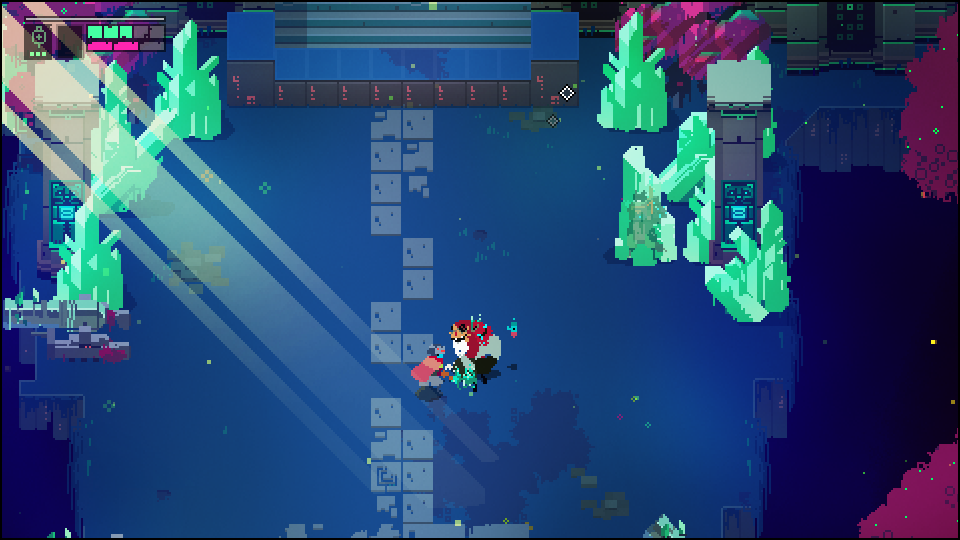hanged_man: (444, 317, 499, 393)
player: (411, 346, 446, 395)
